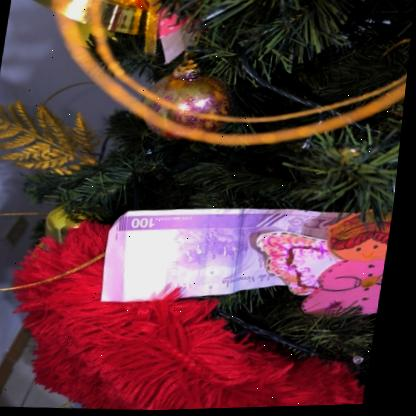one_hundred-back-vef: (102, 200, 354, 314)
